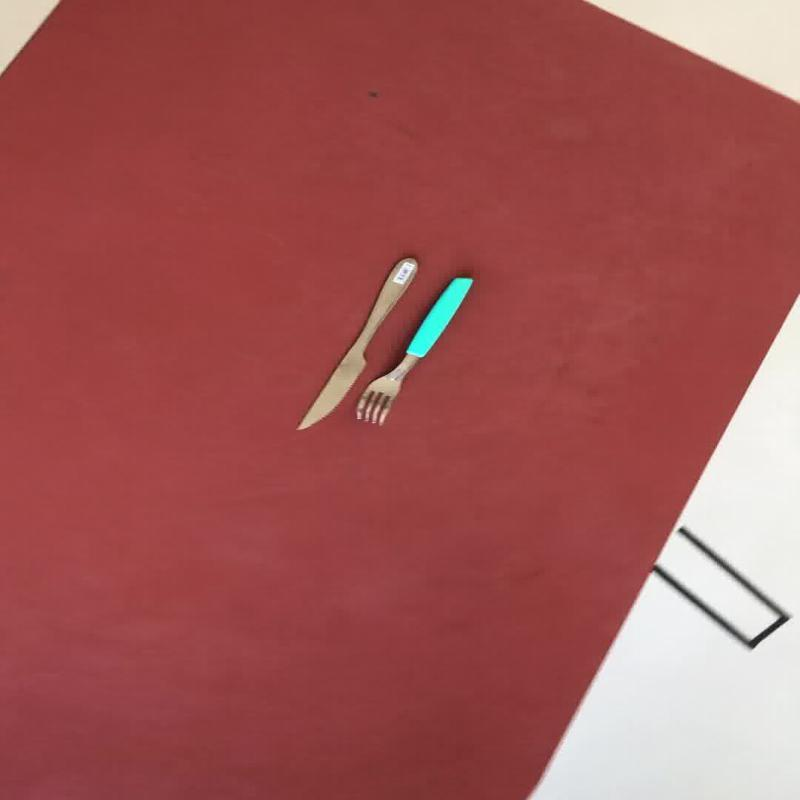fork: (353, 276, 473, 426)
knife: (293, 256, 418, 430)
